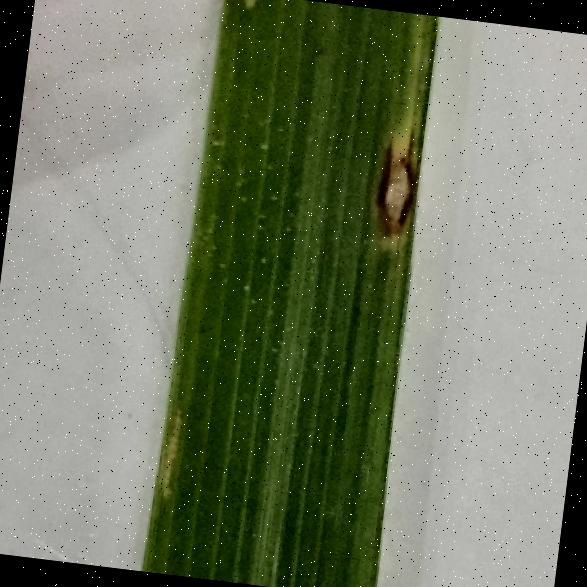Leaf_smut: (350, 115, 426, 245)
